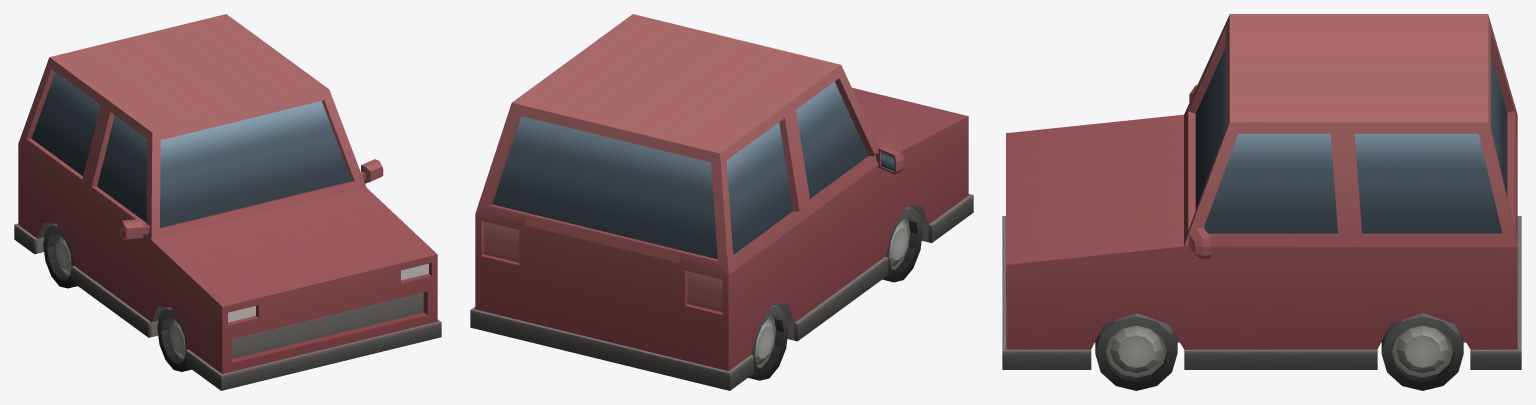
The model's file is Car_01_FBX.fbx.
3 renders of one model, left to right at view 1: azimuth 30°, elevation 25°; view 2: azimuth 150°, elevation 25°; view 3: azimuth 270°, elevation 25°, orthographic. The views are drawn at different scales.
Parts seen in each view (by area): view 1: pCube139; view 2: pCube139; view 3: pCube139.
Boxes of the visible parts, box(x1,y1,x2,y2) form: pCube139: box(14, 14, 441, 390); pCube139: box(470, 14, 973, 390); pCube139: box(1002, 14, 1521, 390).
Bounding box in the file's own units: 236 × 180 × 327.
